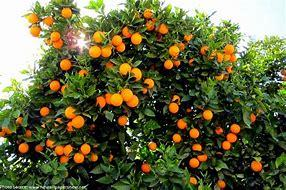orange: (46, 140, 105, 168), (169, 119, 206, 160), (99, 82, 148, 108), (86, 29, 123, 63), (165, 31, 194, 69), (211, 42, 254, 64), (123, 18, 158, 44), (164, 88, 191, 119), (21, 9, 72, 24), (53, 103, 82, 129), (31, 25, 64, 47), (187, 158, 214, 184), (44, 50, 74, 73), (122, 64, 155, 82), (211, 123, 240, 142), (199, 103, 217, 123)
